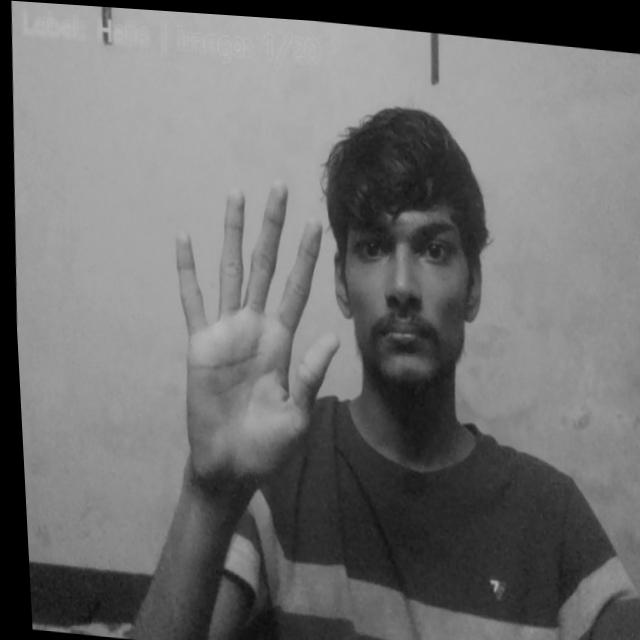Hello: (156, 158, 350, 501)
